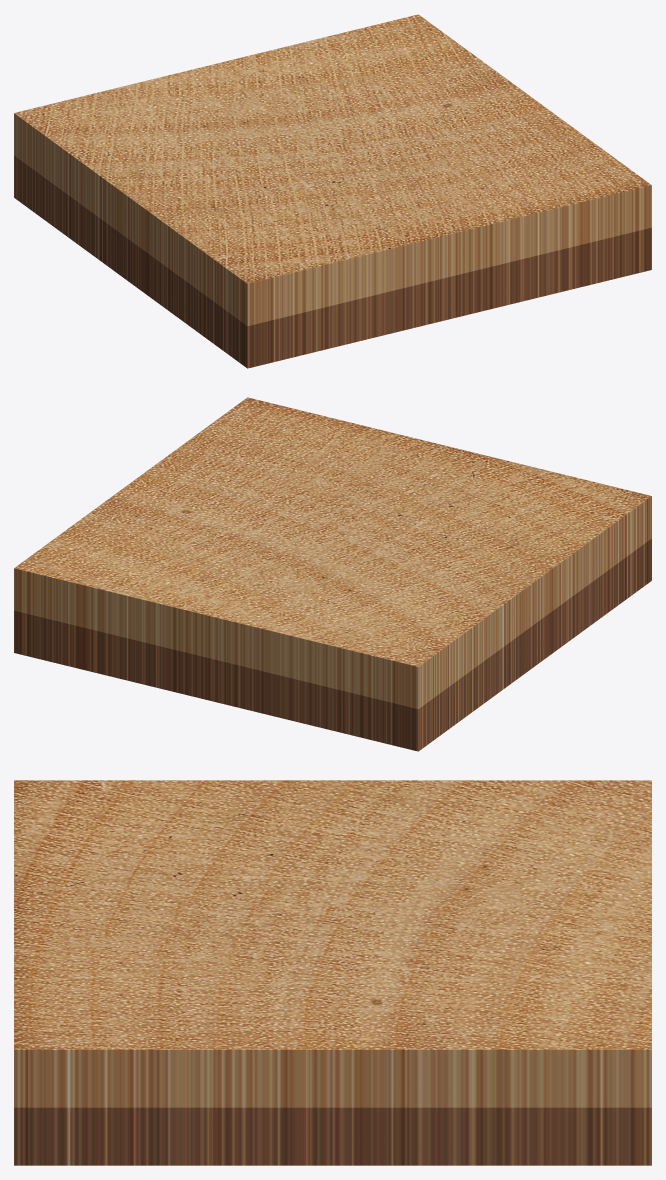
The model's file is SquareLowPoly.FBX.
3 renders of one model, top to bottom at view 1: azimuth 30°, elevation 25°; view 2: azimuth 150°, elevation 25°; view 3: azimuth 270°, elevation 25°, orthographic. The views are drawn at different scales.
Visible parts, largest first — view 1: SquareLowPoly; view 2: SquareLowPoly; view 3: SquareLowPoly.
Part boxes in pixels (x1=…): SquareLowPoly: x1=14, y1=14, x2=651, y2=368; SquareLowPoly: x1=14, y1=397, x2=651, y2=751; SquareLowPoly: x1=14, y1=780, x2=651, y2=1165.
Bounding box in the file's own units: 10 × 2 × 10.
